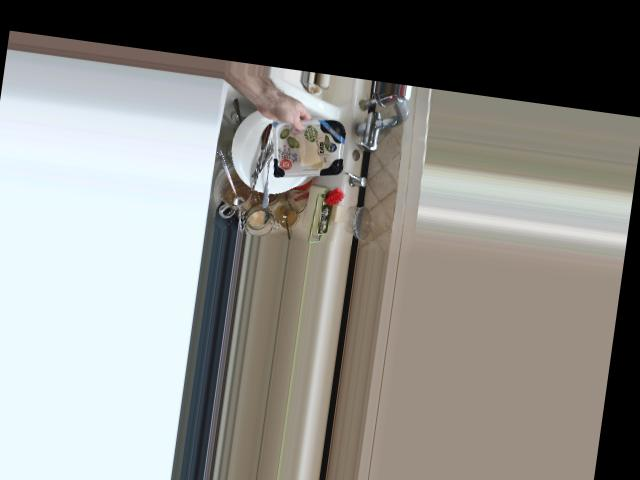cheese: (255, 92, 356, 184)
